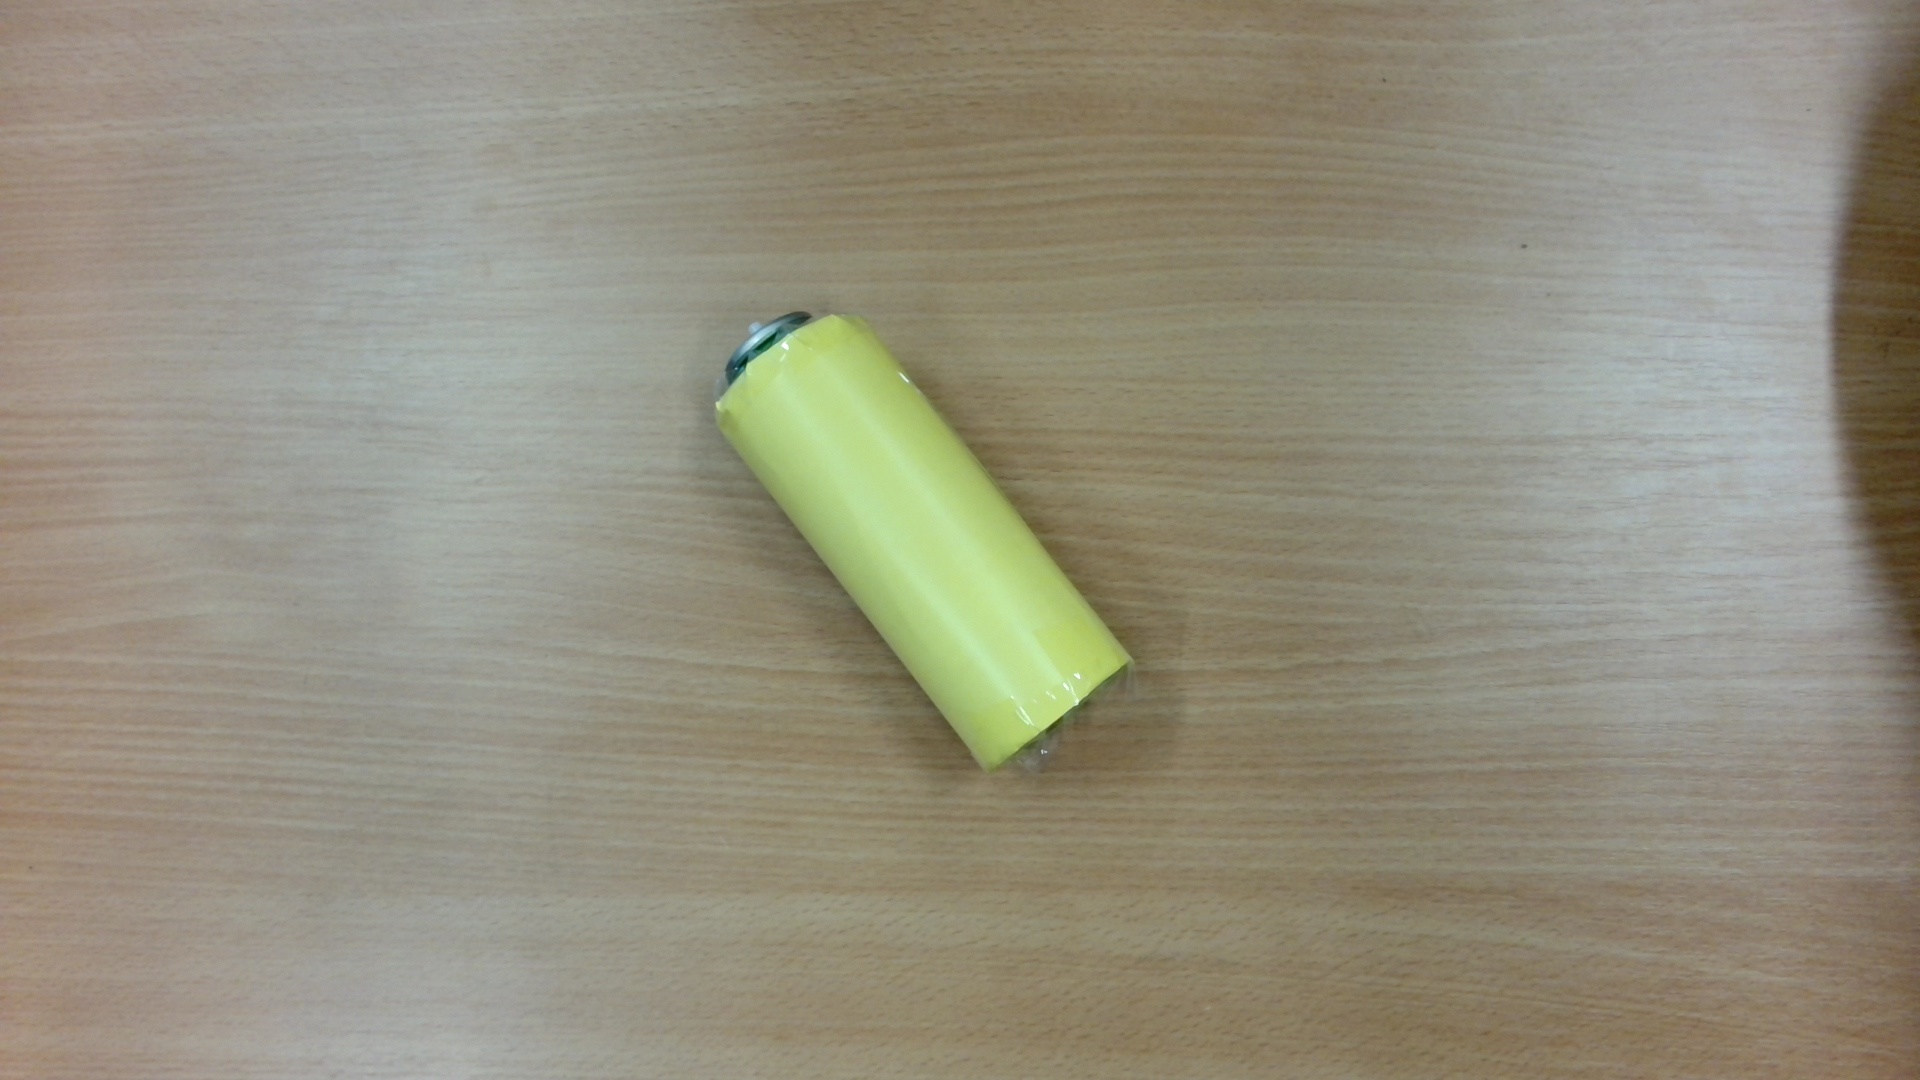Cylinder: (708, 289, 1145, 789)
